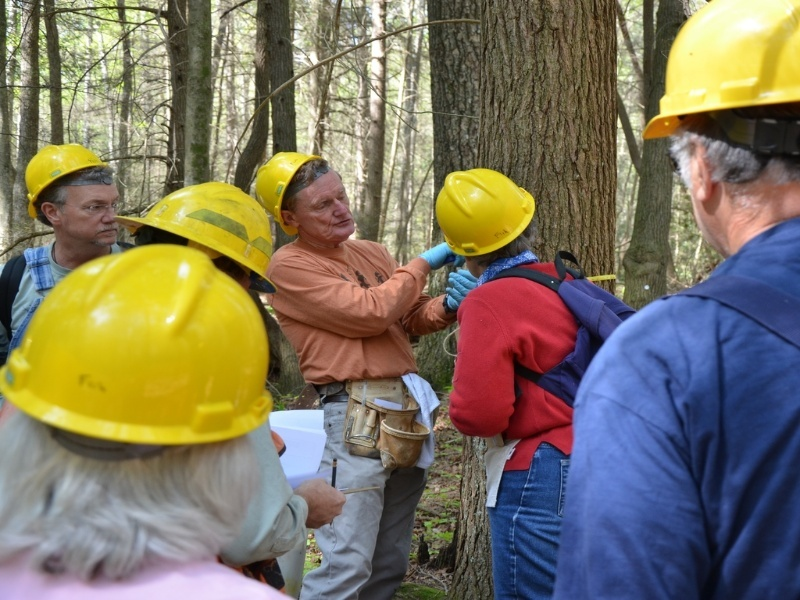baret: (2, 245, 276, 448), (118, 181, 282, 300), (433, 168, 541, 256), (250, 152, 331, 234), (24, 144, 114, 216)
